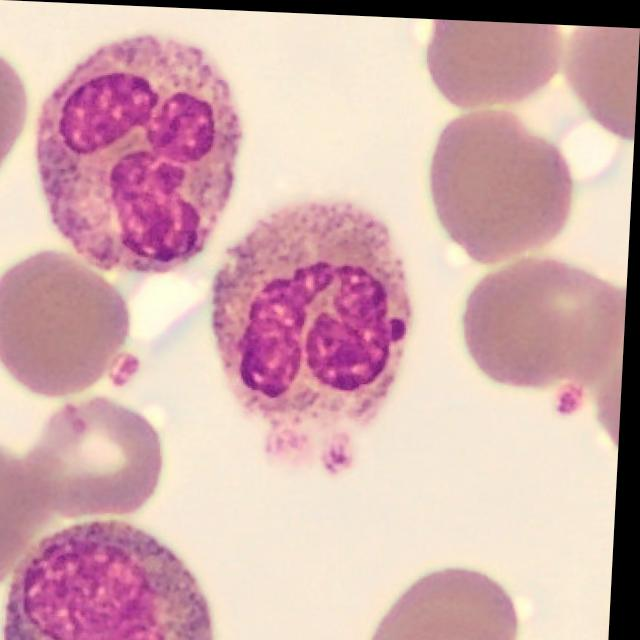Neutrofilo segmentado: (37, 31, 245, 269), (215, 196, 414, 429)
